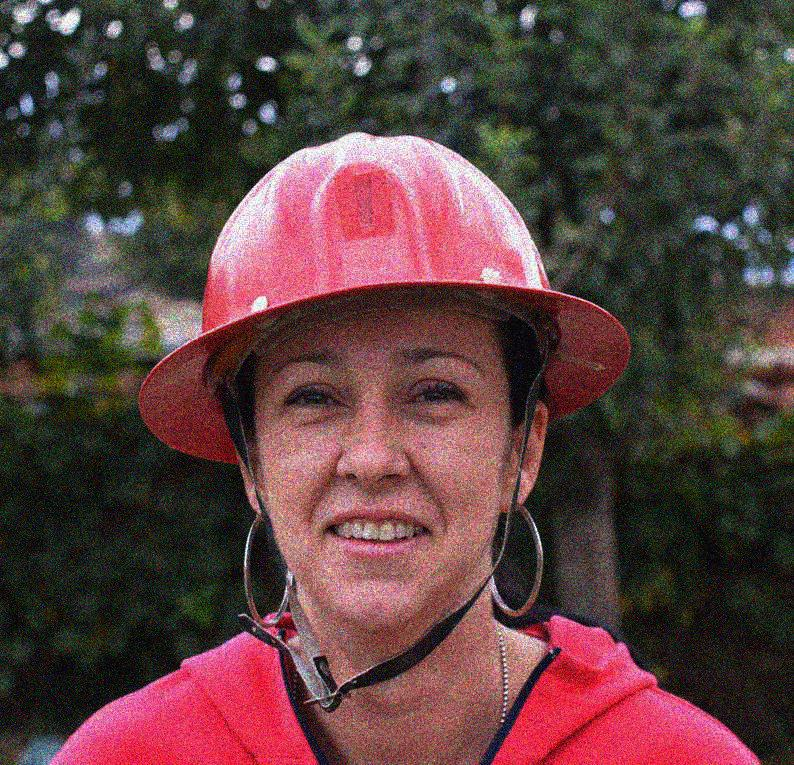helmet: (138, 127, 635, 628)
